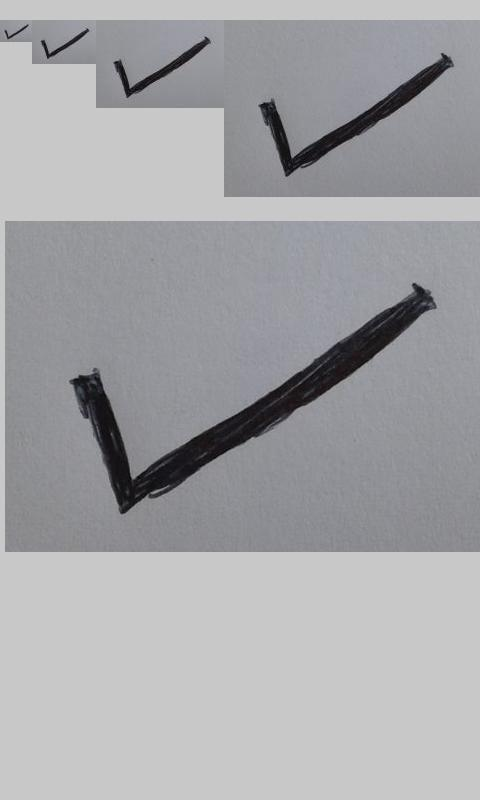check_box: (70, 285, 435, 512), (258, 56, 451, 177), (115, 36, 213, 96), (41, 29, 89, 59), (4, 24, 28, 40)
